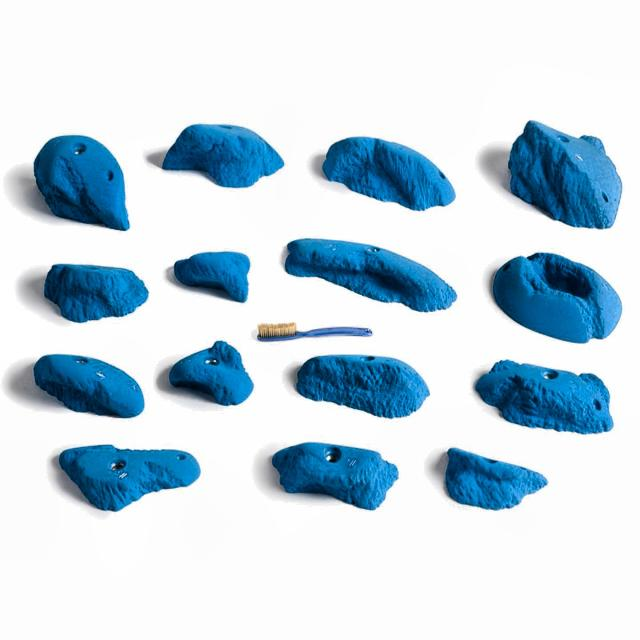Hold: (283, 230, 458, 314), (504, 116, 626, 234), (492, 250, 620, 348), (317, 125, 455, 211), (474, 359, 616, 437), (291, 349, 433, 426), (26, 131, 130, 229), (66, 444, 205, 506), (159, 122, 287, 188), (274, 444, 400, 511), (33, 351, 146, 420), (434, 443, 542, 513), (46, 264, 150, 321), (161, 336, 249, 399), (174, 247, 256, 304)
